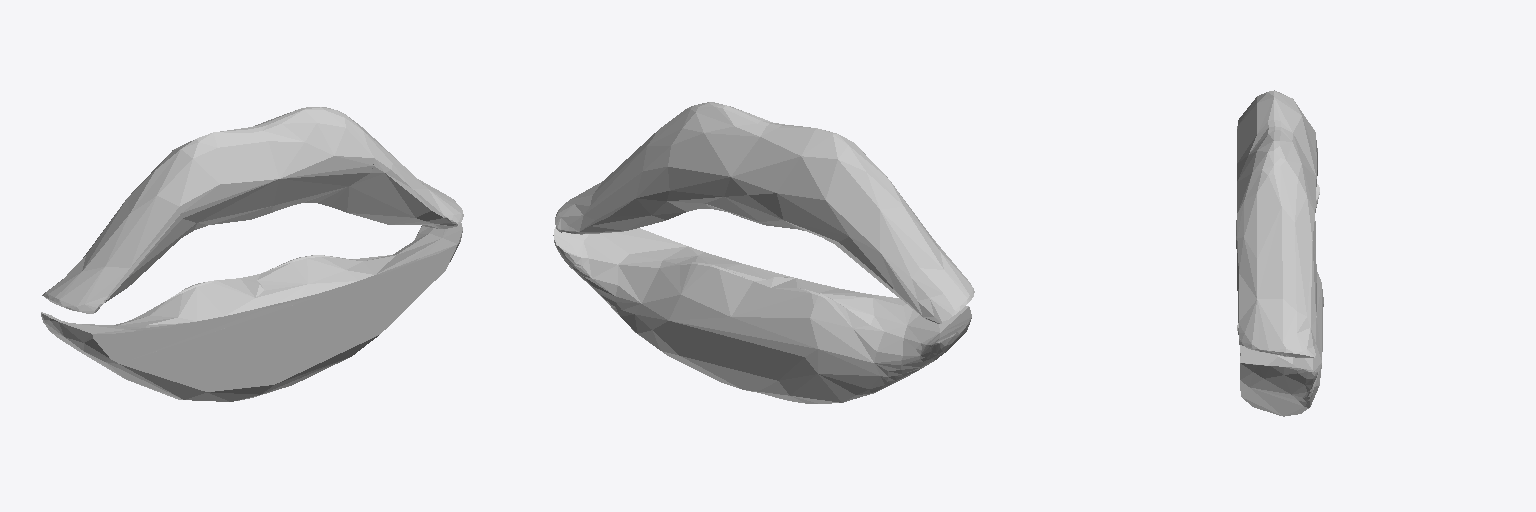
Rendered from bonusH2.obj.
3 renders of one model, left to right at view 1: azimuth 30°, elevation 25°; view 2: azimuth 150°, elevation 25°; view 3: azimuth 270°, elevation 25°, orthographic.
Size of the model in its own units: 33.08 by 21.42 by 6.18.